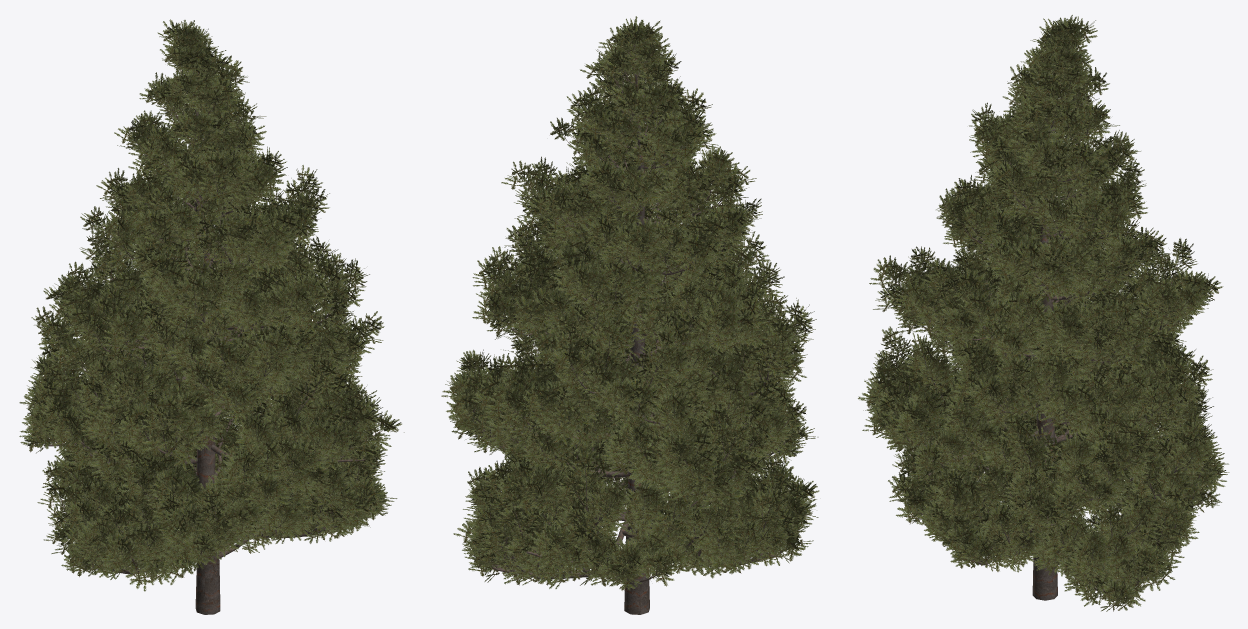
File: grass.glb
3 renders of one model, left to right at view 1: azimuth 30°, elevation 25°; view 2: azimuth 150°, elevation 25°; view 3: azimuth 270°, elevation 25°, orthographic. The views are drawn at different scales.
Parts seen in each view (by area): view 1: leaves, tree; view 2: leaves, tree; view 3: leaves, tree.
Part boxes in pixels (x1,y1,x2,y2): leaves: (19,19,404,591); tree: (43,47,382,614); leaves: (441,16,819,590); tree: (467,42,798,614); leaves: (858,15,1229,611); tree: (885,42,1205,601).
Bounding box in the file's own units: 2.87 × 4.92 × 2.94.
2 materials, 2 textured.
